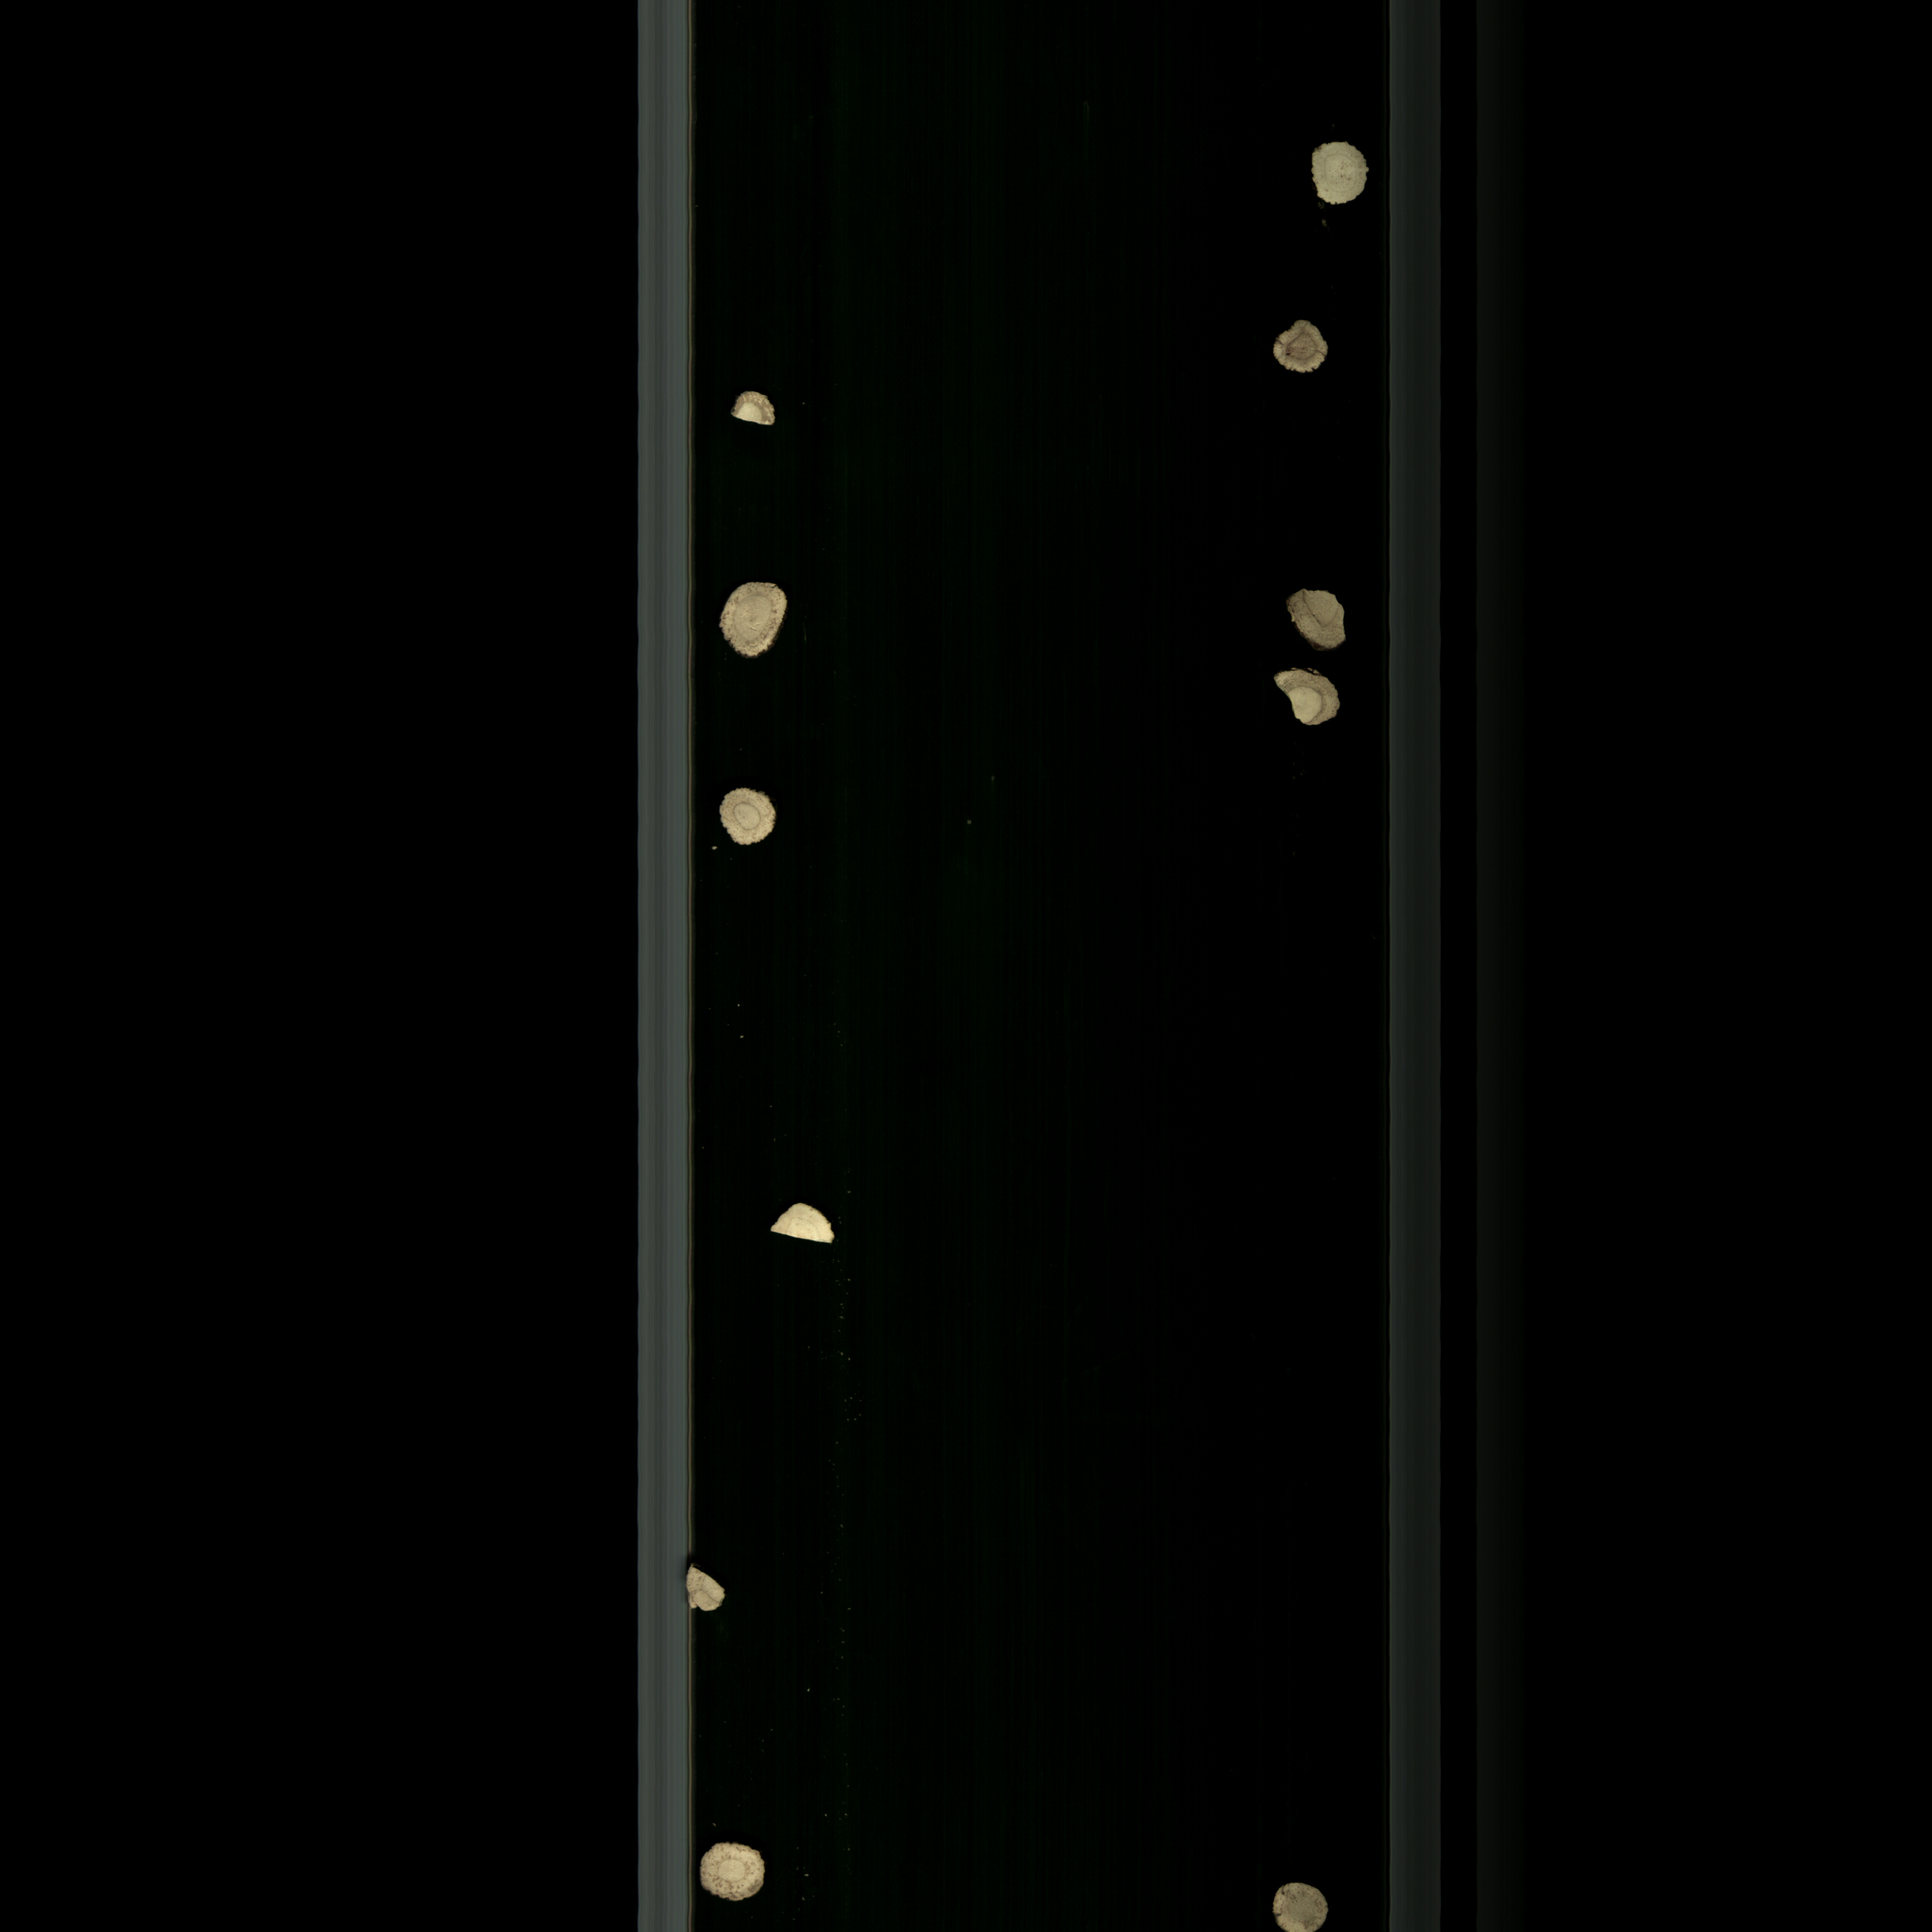debris: (1276, 580, 1362, 656), (1261, 663, 1350, 732), (764, 1191, 844, 1258)
dreg: (678, 1560, 745, 1624)
moldy: (706, 379, 803, 448), (1267, 313, 1332, 389)
